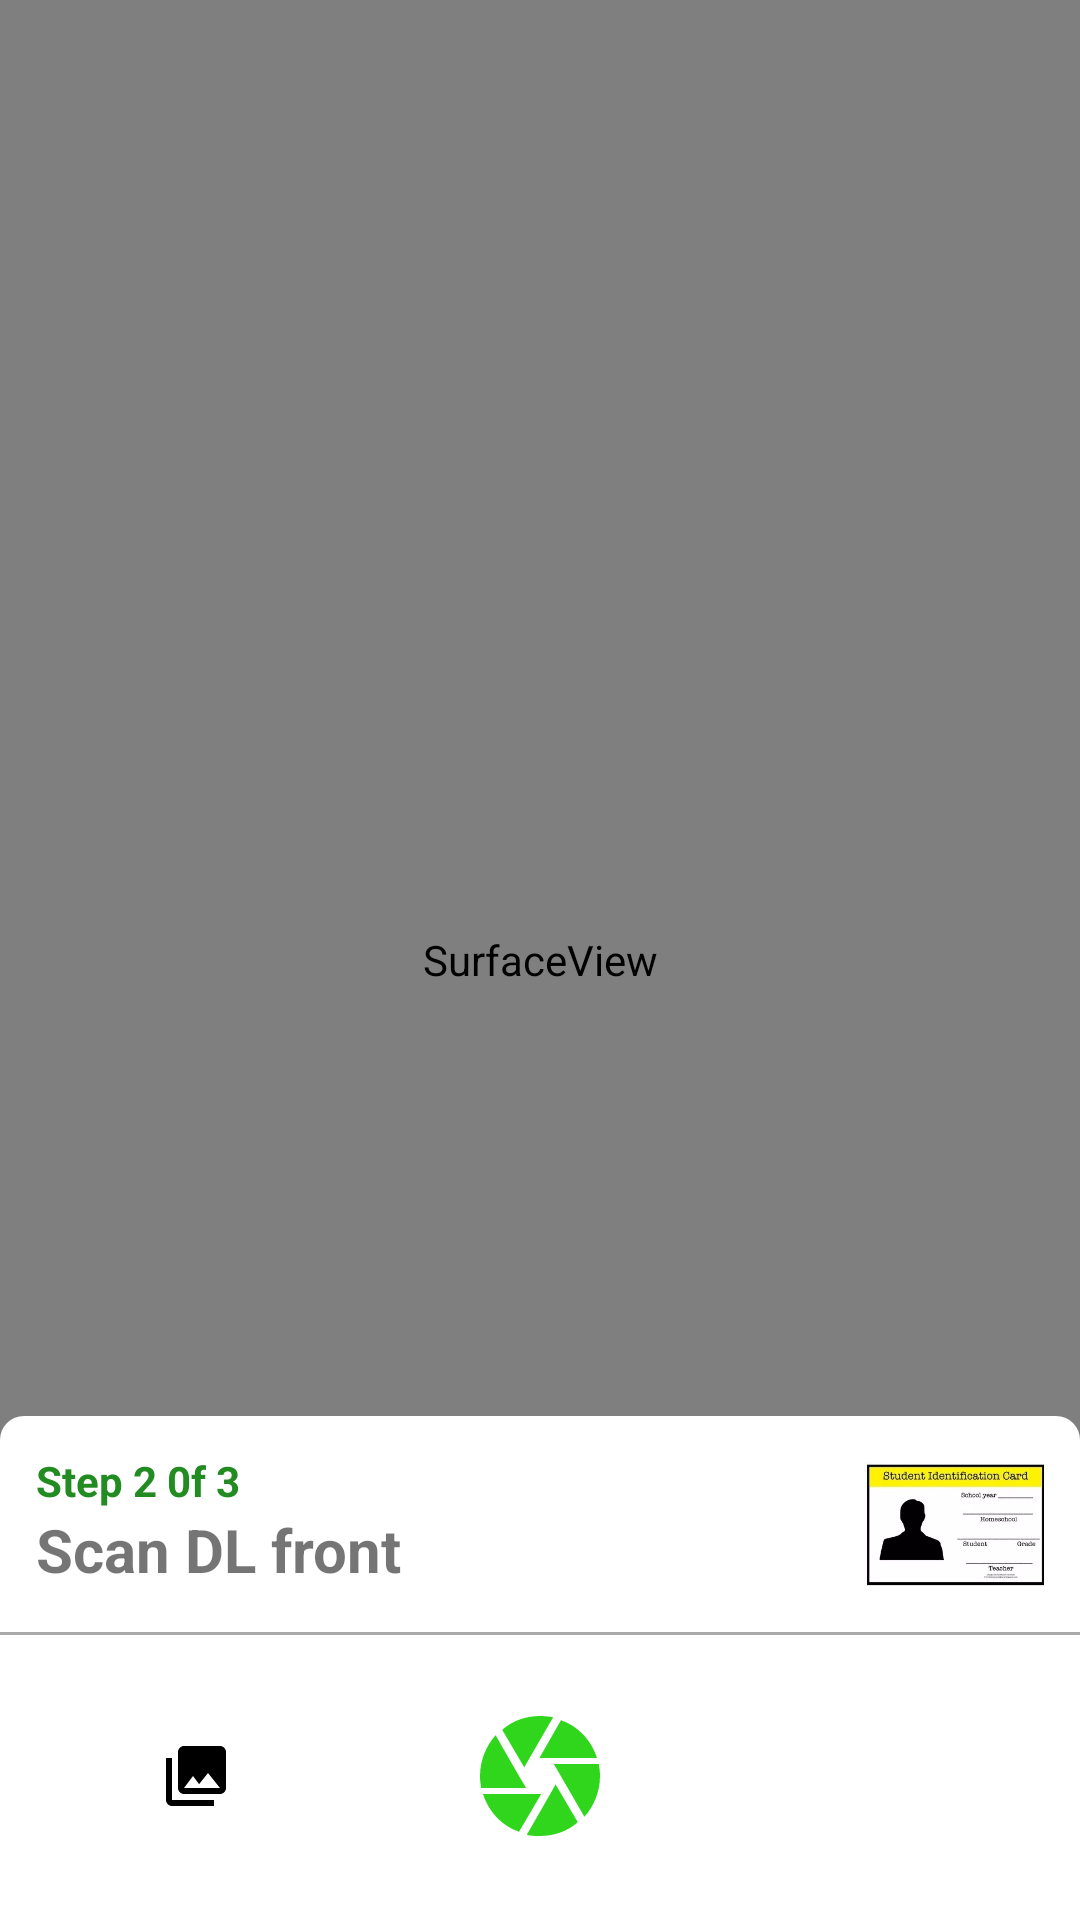

Screen size 1080×1920. Icon name, then its center in pixels as (x=x, y=y):
camera diaphragm: (x=540, y=1776)
gallery: (x=196, y=1776)
